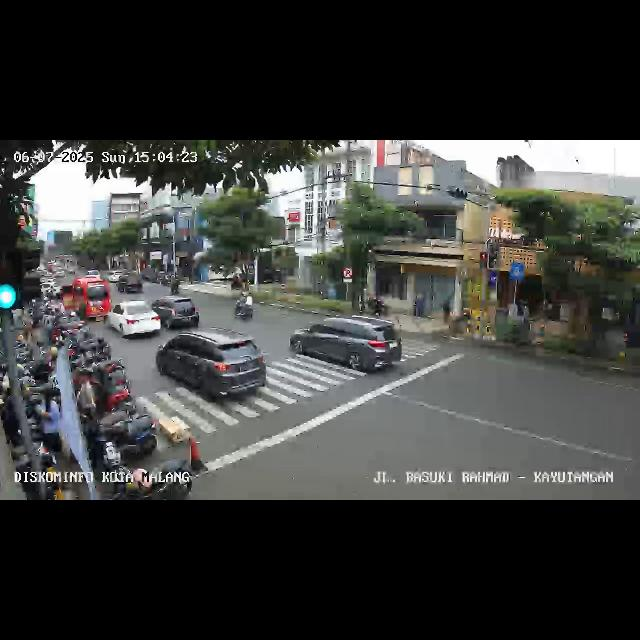car: (156, 330, 270, 402), (290, 314, 406, 378), (106, 300, 160, 342), (60, 279, 110, 323), (150, 296, 204, 330), (117, 272, 145, 294)
motorcycle: (234, 292, 256, 321)
